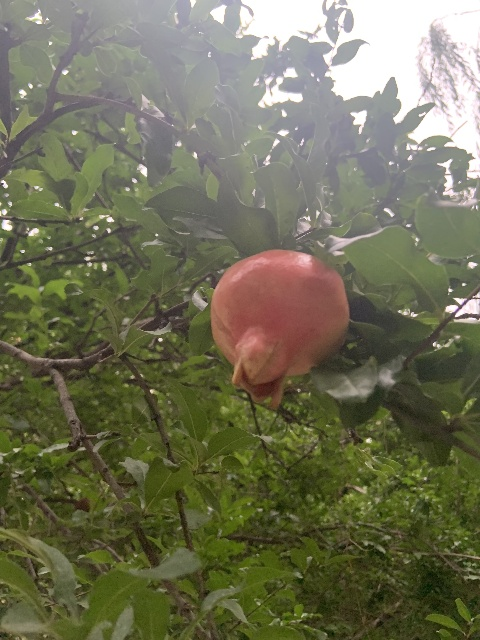ripe: (209, 249, 349, 410)
